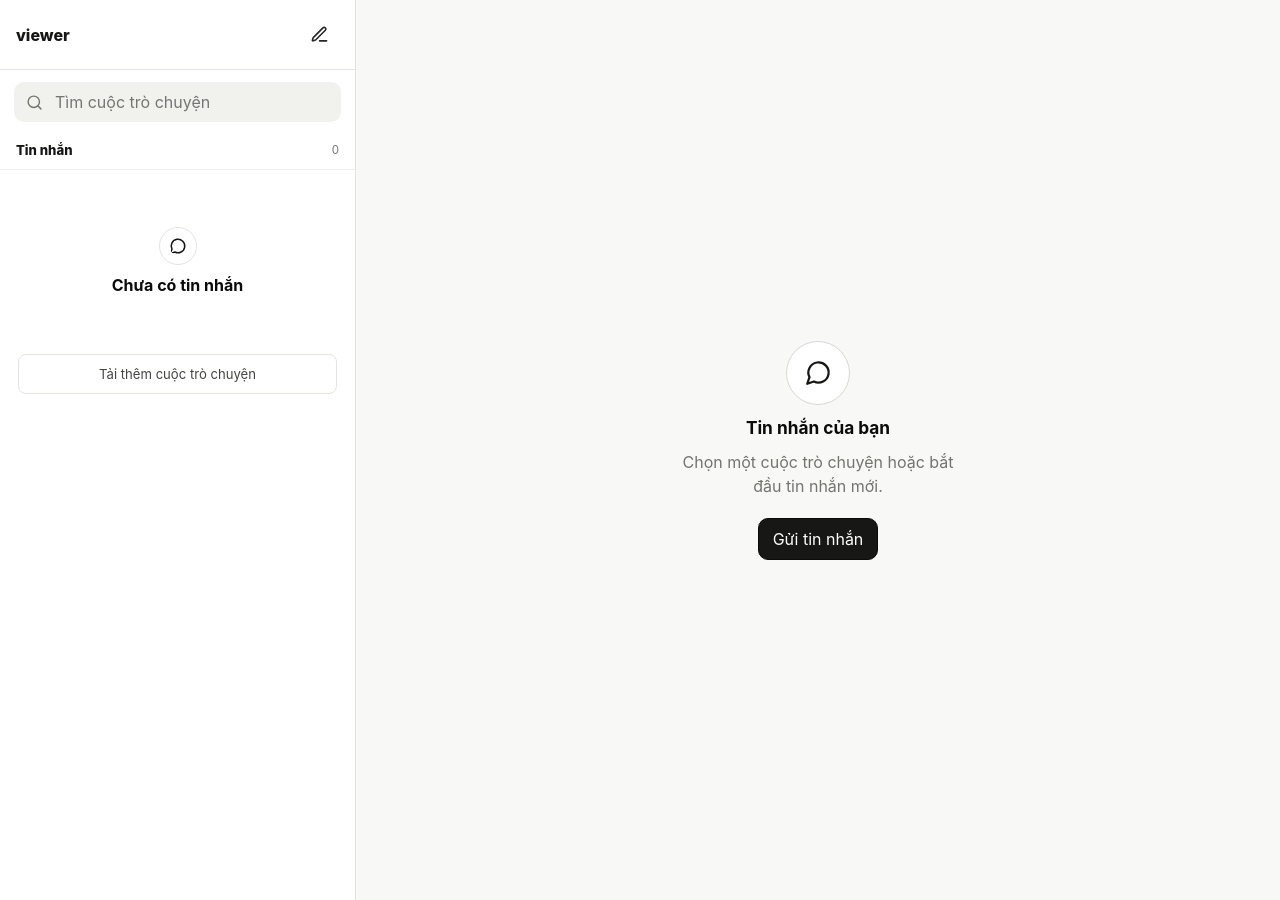
Test case: ChatScreen conversation creation › opens the same shared new-conversation dialog as mini-chat
Click the button named "Tạo cuộc trò chuyện" at (319, 34), box [299,14,339,54]
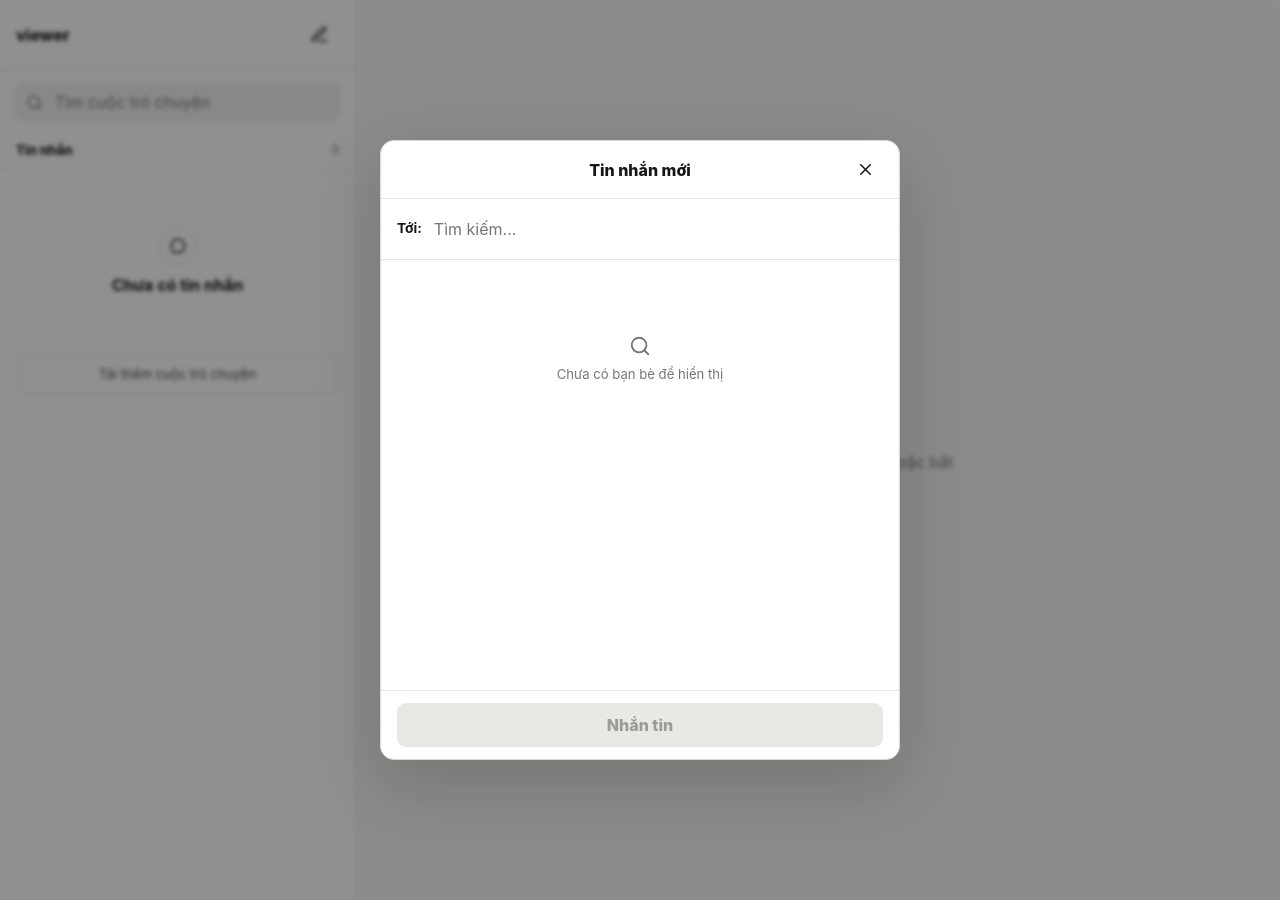
Result: the dialog "Tin nhắn mới" is shown at [380,140,900,760]
